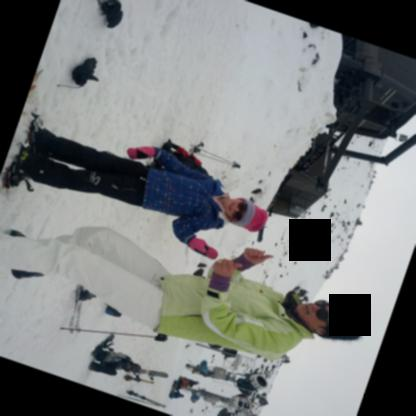backpack: (160, 140, 210, 177)
